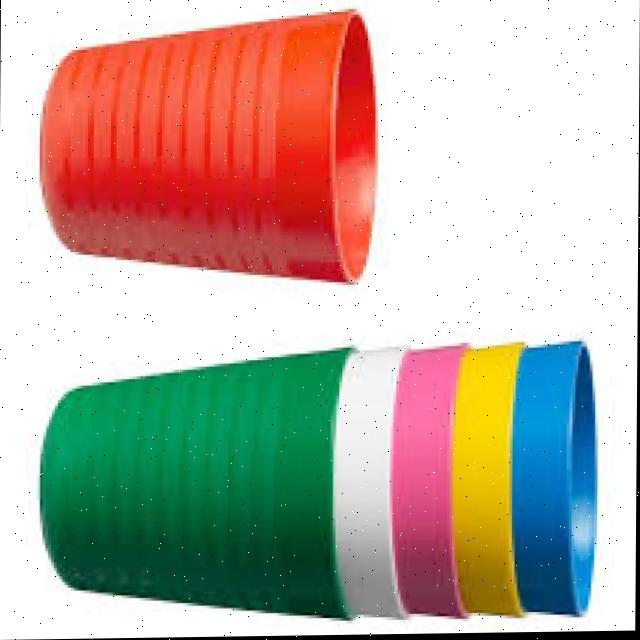cup: (30, 0, 392, 283), (33, 340, 372, 636)
